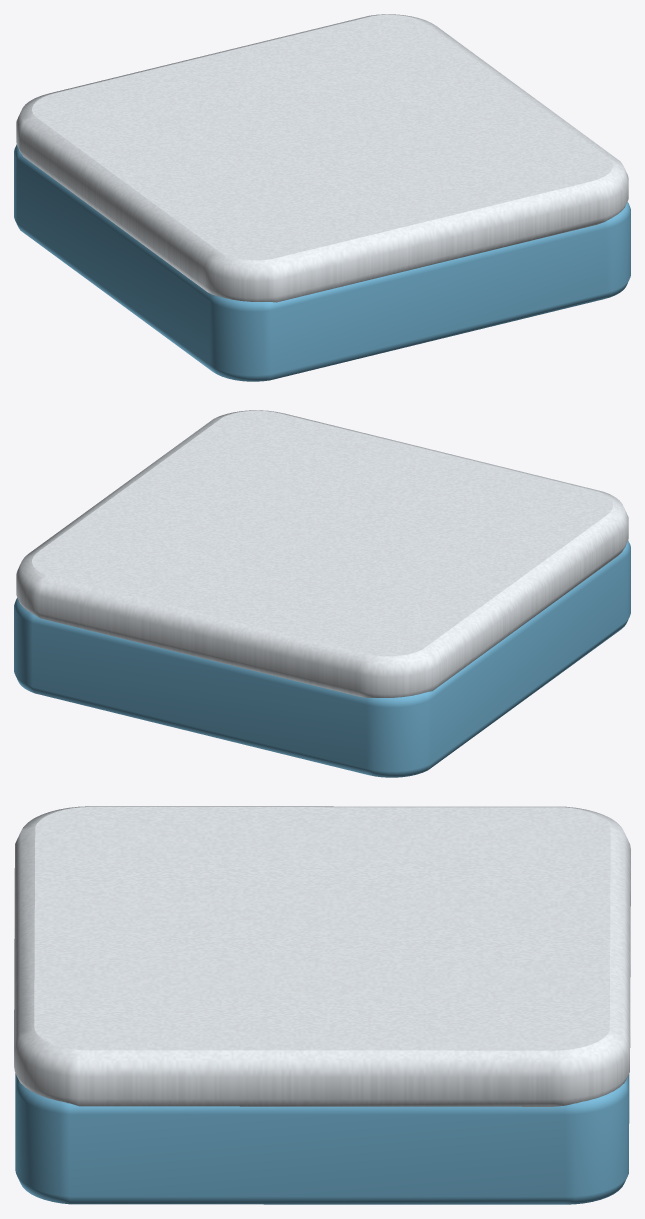
Rendered from tile_snow.glb.
3 renders of one model, top to bottom at view 1: azimuth 30°, elevation 25°; view 2: azimuth 150°, elevation 25°; view 3: azimuth 270°, elevation 25°, orthographic. The views are drawn at different scales.
Parts seen in each view (by area): view 1: snow_frost_cap, snow_ice_base; view 2: snow_frost_cap, snow_ice_base; view 3: snow_frost_cap, snow_ice_base.
Boxes of the visible parts, <box> form: snow_frost_cap: <box>16,14,628,302</box>; snow_ice_base: <box>14,144,630,381</box>; snow_frost_cap: <box>16,410,628,697</box>; snow_ice_base: <box>14,540,630,777</box>; snow_frost_cap: <box>14,806,630,1106</box>; snow_ice_base: <box>15,1073,629,1204</box>.
Bounding box in the file's own units: 1 × 0.273 × 1.
2 materials, 1 textured.
